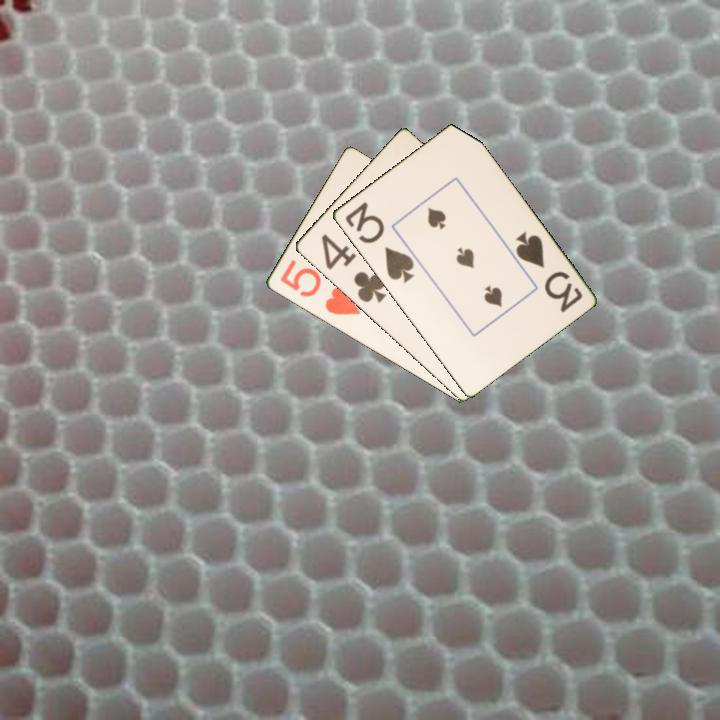3s: (341, 198, 417, 286), (511, 228, 585, 316)
4c: (317, 230, 389, 306)
5h: (276, 256, 363, 318)
